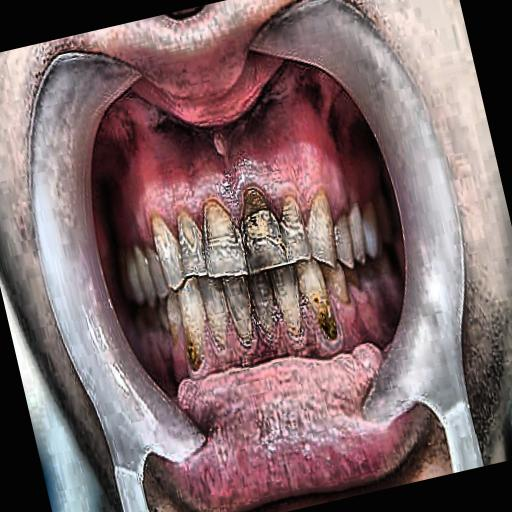Calculus: (128, 154, 367, 399)
